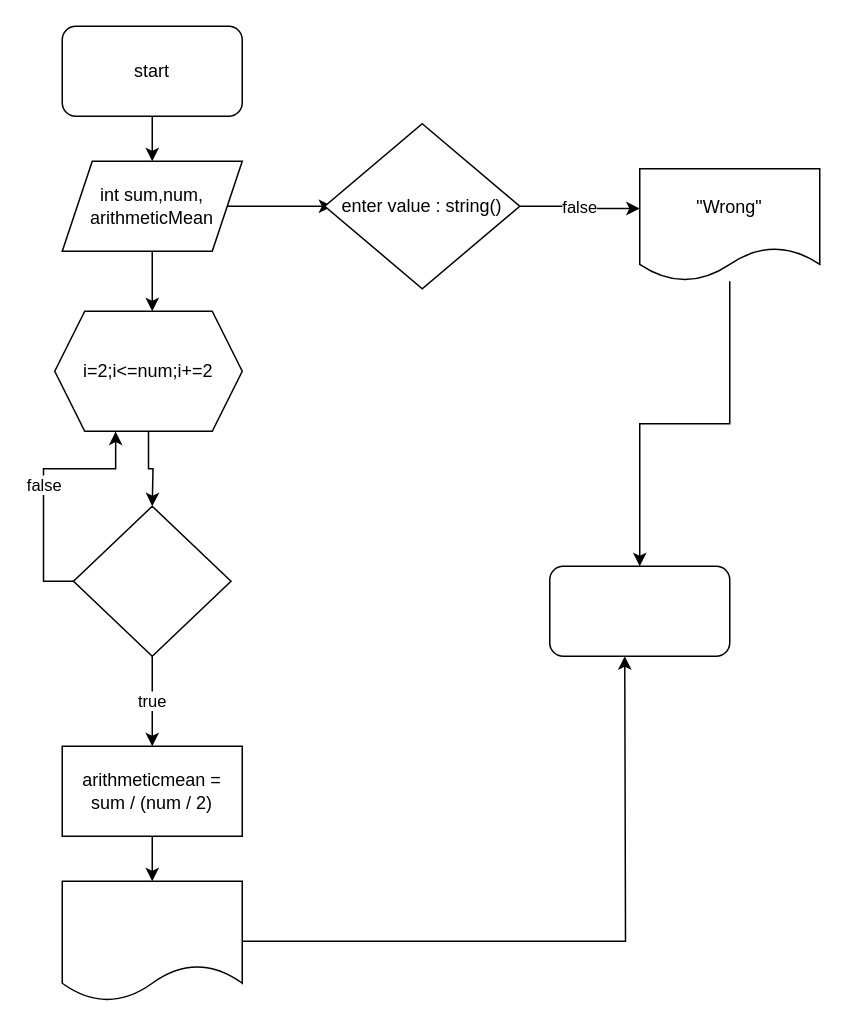
This 846x1028 diagram has some shape labels left out. Here are the shapes that lost their labels. From the top down, the centre of each, then its label:
point (151, 580): sum += i
point (639, 610): end
point (151, 940): "Answer:"
